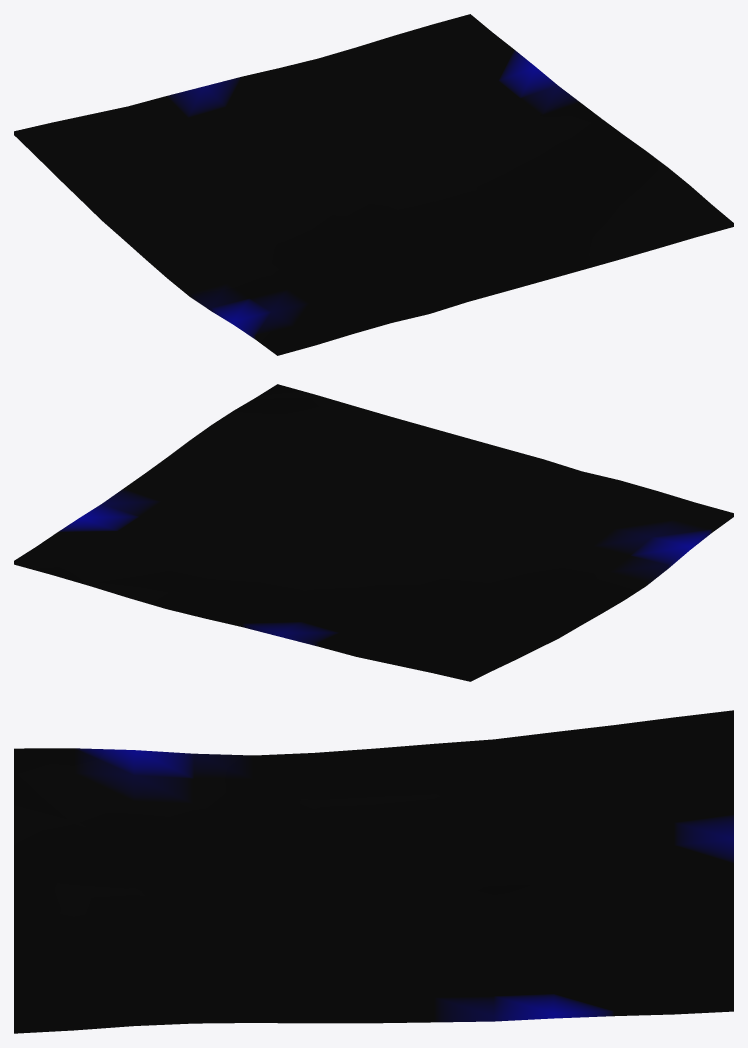
The model's file is coast_19_3.glb.
3 views of the same model, one above another, from view 1: azimuth 30°, elevation 25°; view 2: azimuth 150°, elevation 25°; view 3: azimuth 270°, elevation 25° (orthographic). The views are drawn at different scales.
Visible parts, largest first — view 1: terrain; view 2: terrain; view 3: terrain.
Boxes of the visible parts, <box> form: terrain: <box>14,14,733,355</box>; terrain: <box>14,384,733,681</box>; terrain: <box>14,710,733,1033</box>.
Bounding box in the file's own units: 192 × 17.18 × 192.
